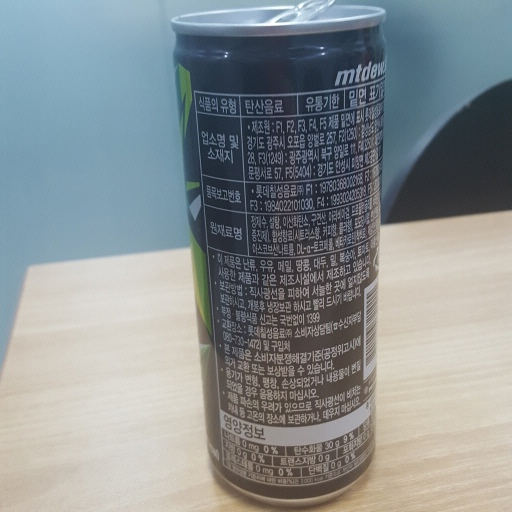Metal_0: (168, 1, 388, 508)
